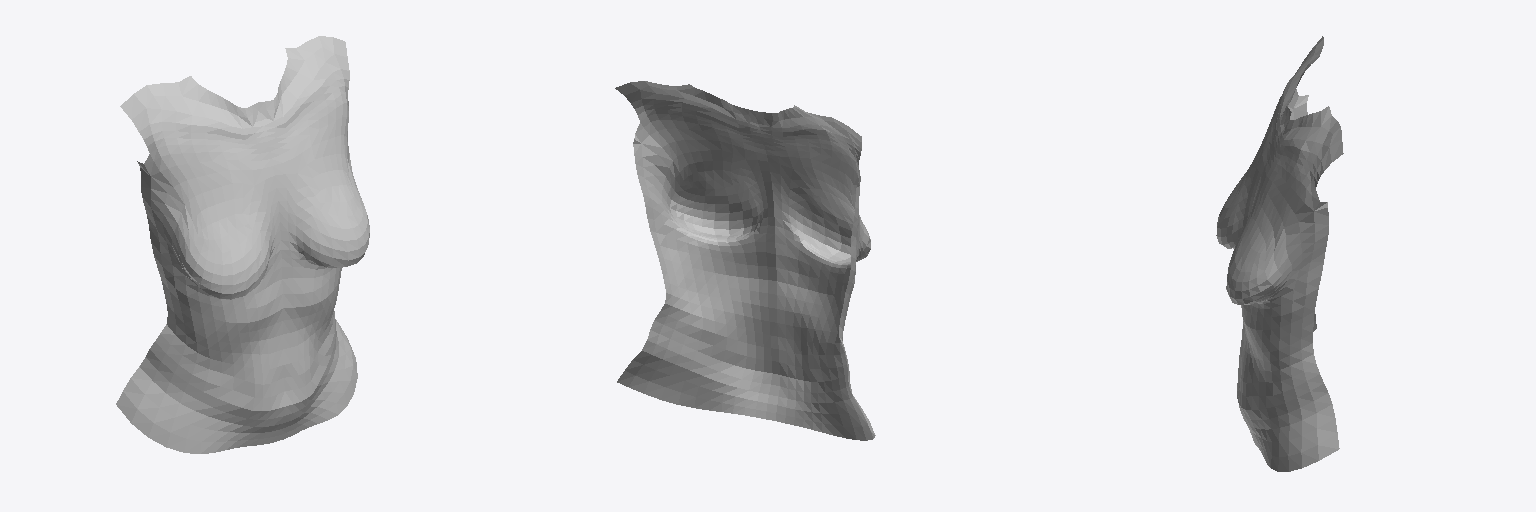
The model's file is deformed_alpha_7_Model1.obj.
The picture shows the model from 3 angles: view 1: azimuth 30°, elevation 25°; view 2: azimuth 150°, elevation 25°; view 3: azimuth 270°, elevation 25°; orthographic projection.
Bounding box in the file's own units: 0.3294 × 0.4585 × 0.1492.